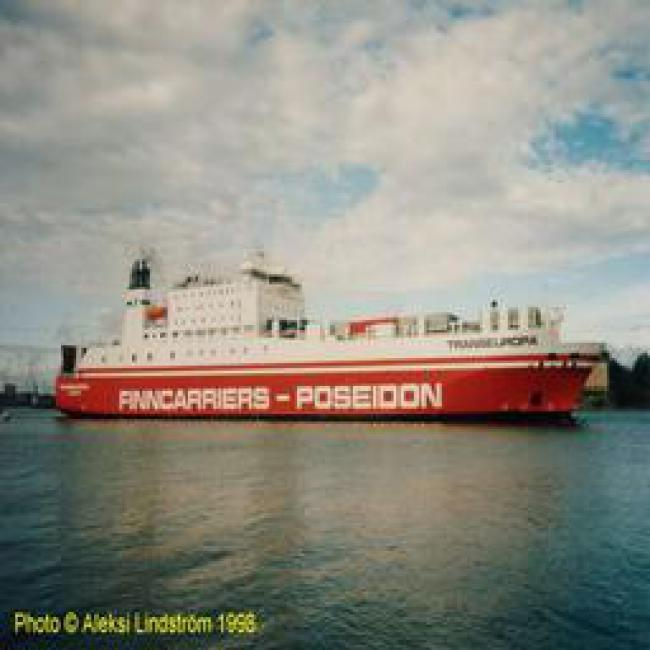Ship: (35, 256, 595, 436)
